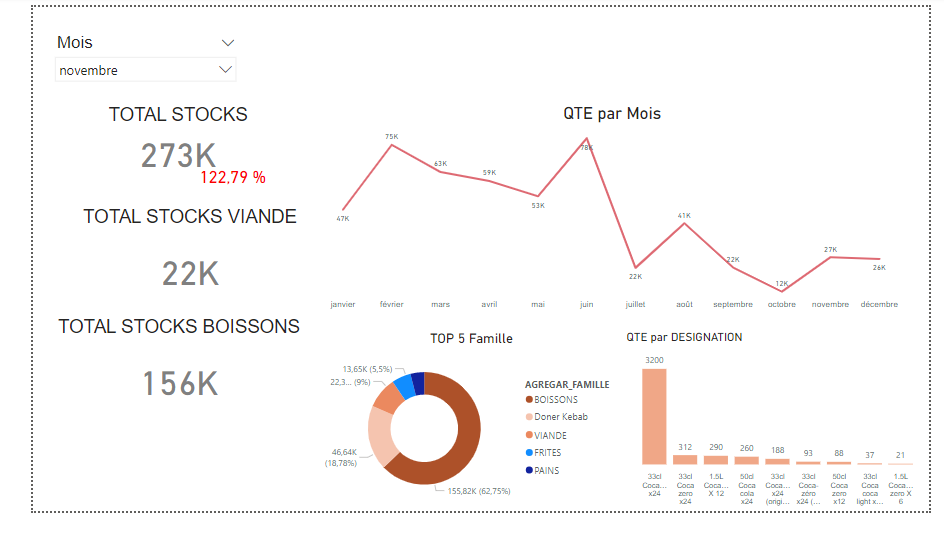

This screenshot's page, from the dashboard's own definition file:
{"tool":"powerbi","page":{"name":"Page 1","canvas":[1280,720],"ordinal":0},"visuals":[{"type":"slicer","fields":{"Values":["01_STOCKS.DATE.Variation.Hiérarchie de dates.Mois"]},"box":[21.9,30.9,279,92.6],"z":0},{"type":"card","title":"TOTAL STOCKS","fields":{"Values":["Sum(01_STOCKS.SOMME)"]},"box":[21.9,138.9,371.6,104.1],"z":1},{"type":"card","title":"TOTAL STOCKS VIANDE","fields":{"Values":["01_STOCKS.Total_stocks_viande"]},"box":[38.6,284.1,371.6,150.4],"z":2},{"type":"card","title":"TOTAL STOCKS BOISSONS","fields":{"Values":["01_STOCKS.Total_stocks_boisson"]},"box":[22.5,441,371.5,151.1],"z":3},{"type":"card","title":"TOTAL STOCKS","fields":{"Values":["01_STOCKS.VAR_M_M-1"]},"box":[208.3,213.4,153,59.1],"z":4},{"type":"lineChart","fields":{"Y":["Sum(01_STOCKS.QTE)"],"Category":["01_STOCKS.DATE.Variation.Hiérarchie de dates.Mois"]},"box":[410.3,138.8,835,302.1],"z":5},{"type":"donutChart","title":"TOP 5 Famille","fields":{"Category":["01_STOCKS.AGREGAR_FAMILLE"],"Y":["Sum(01_STOCKS.SOMME)"]},"box":[410.3,461.4,432.8,259.3],"z":6},{"type":"clusteredColumnChart","fields":{"Y":["Sum(01_STOCKS.QTE)"],"Category":["01_STOCKS.DESIGNATION"]},"box":[843.1,461.4,436.9,259.3],"z":7}]}

Visuals, with their boxes in screenshot pixels (x1, y1, x2, y2), scaled from the page's 1280x720 canvas onto the 944x544 screenshot:
slicer - 01_STOCKS.DATE.Variation.Hiérarchie de dates.Mois: (16, 23, 222, 93)
"TOTAL STOCKS" card: (16, 105, 290, 184)
"TOTAL STOCKS VIANDE" card: (28, 215, 303, 328)
"TOTAL STOCKS BOISSONS" card: (17, 333, 291, 447)
"TOTAL STOCKS" card: (154, 161, 266, 206)
lineChart - Sum(01_STOCKS.QTE) x 01_STOCKS.DATE.Variation.Hiérarchie de dates.Mois: (303, 105, 918, 333)
"TOP 5 Famille" donutChart: (303, 349, 622, 543)
clusteredColumnChart - Sum(01_STOCKS.QTE) x 01_STOCKS.DESIGNATION: (622, 349, 943, 543)
